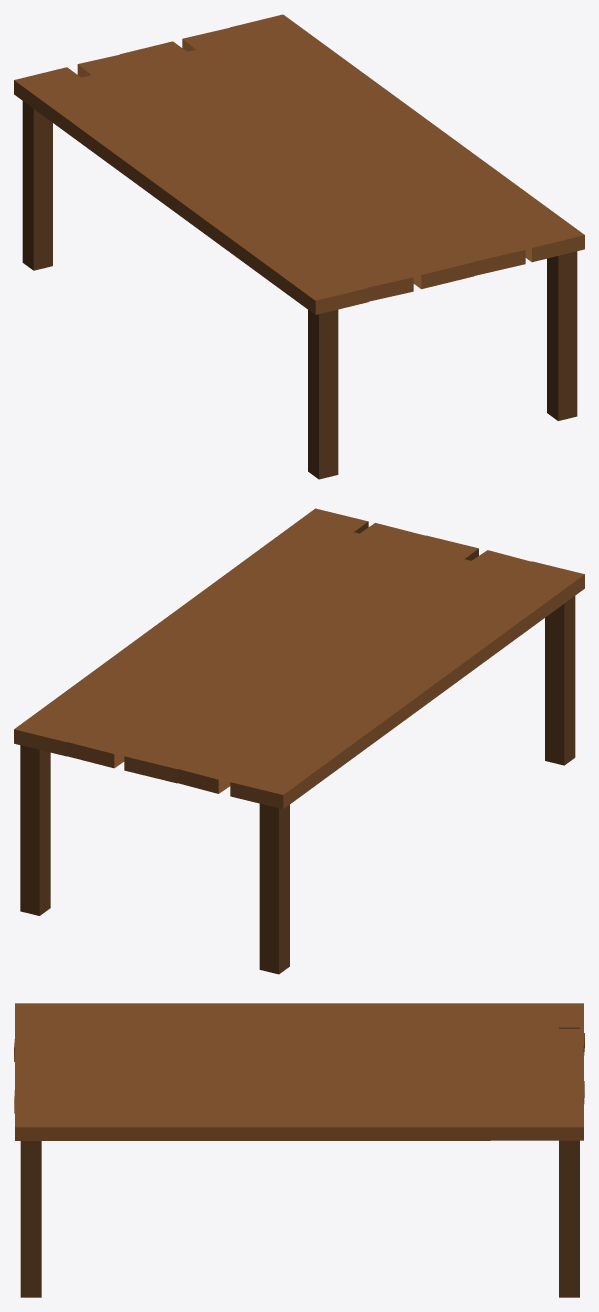
The model's file is Table.fbx.
3 views of the same model, one above another, from view 1: azimuth 30°, elevation 25°; view 2: azimuth 150°, elevation 25°; view 3: azimuth 270°, elevation 25° (orthographic). The views are drawn at different scales.
Parts seen in each view (by area): view 1: pCube17; view 2: pCube17; view 3: pCube17.
Boxes of the visible parts, x1,y1,x2,y2 form: pCube17: [14, 14, 584, 479]; pCube17: [14, 508, 584, 974]; pCube17: [14, 1003, 584, 1297].
Bounding box in the file's own units: 4.01 × 2.6 × 7.8.
